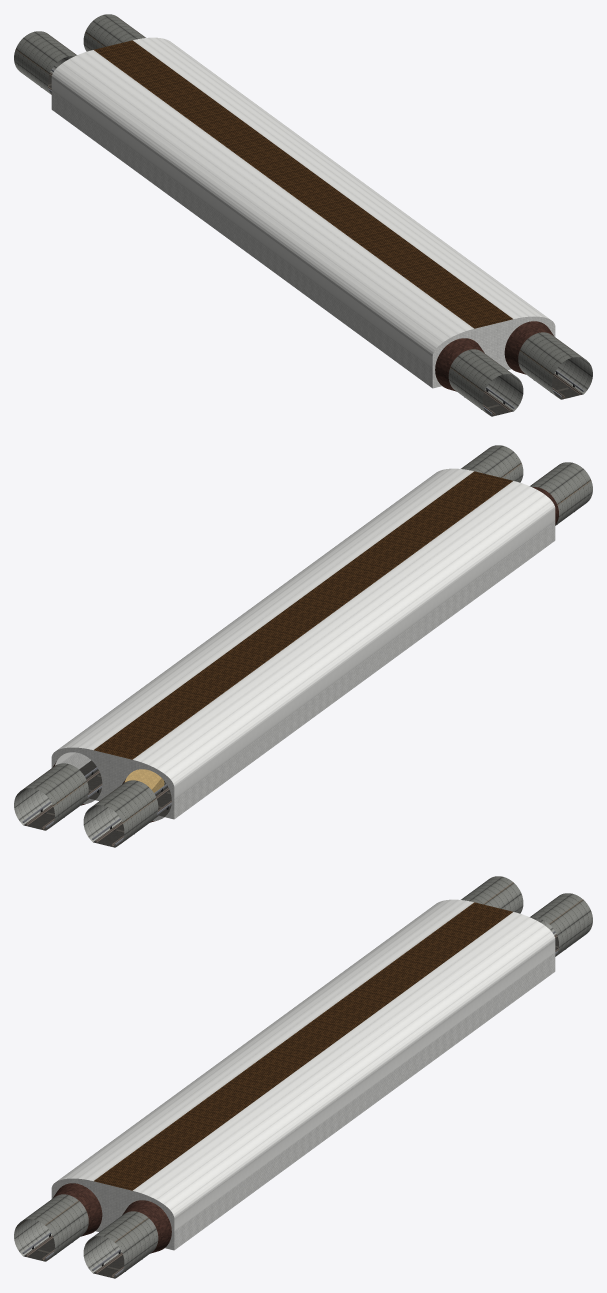
Rendered from station_kinning-park.glb.
3 renders of one model, top to bottom at view 1: azimuth 30°, elevation 25°; view 2: azimuth 150°, elevation 25°; view 3: azimuth 330°, elevation 25°, orthographic.
Parts seen in each view (by area): view 1: hall_shell, end_walls; view 2: hall_shell, end_walls; view 3: hall_shell, end_walls.
Part boxes in pixels (box(x1,y1,x2,y2)): hall_shell: box(41, 37, 584, 415); end_walls: box(14, 14, 592, 416); hall_shell: box(22, 468, 557, 846); end_walls: box(14, 445, 592, 847); hall_shell: box(22, 899, 565, 1277); end_walls: box(14, 876, 592, 1278).
Bounding box in the file's own units: 10.04 × 4.5 × 66.4.
Materials: 30 (21 with a texture image).
